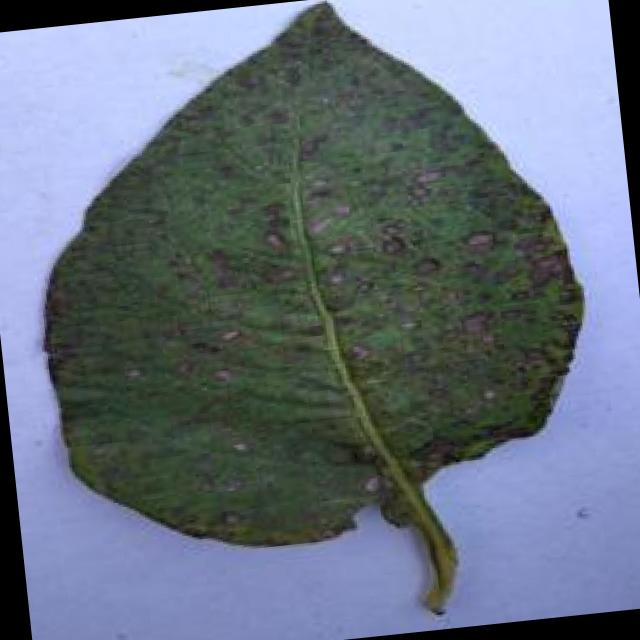Potato_Early_Blight: (11, 0, 604, 574)
